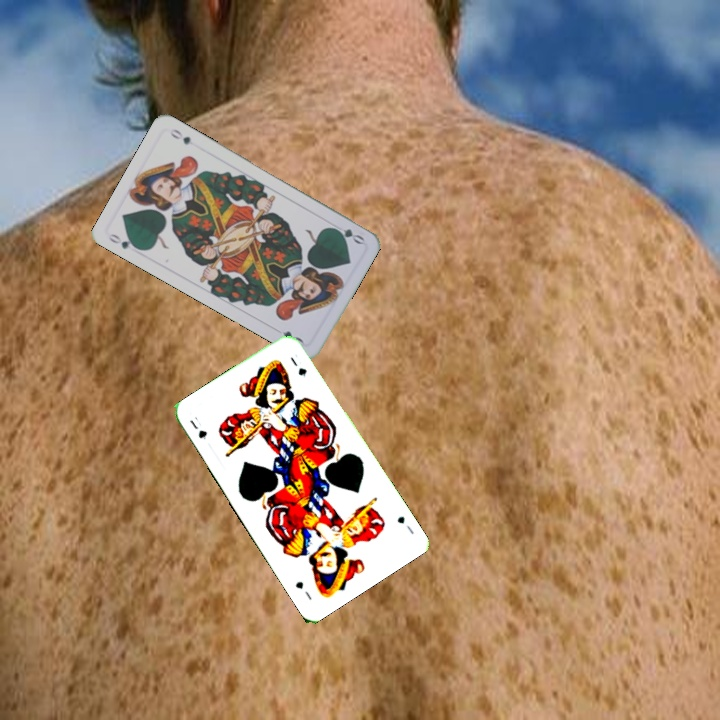GO: (327, 220, 367, 247), (104, 229, 144, 253)
GU: (186, 412, 210, 442), (393, 512, 417, 537)
